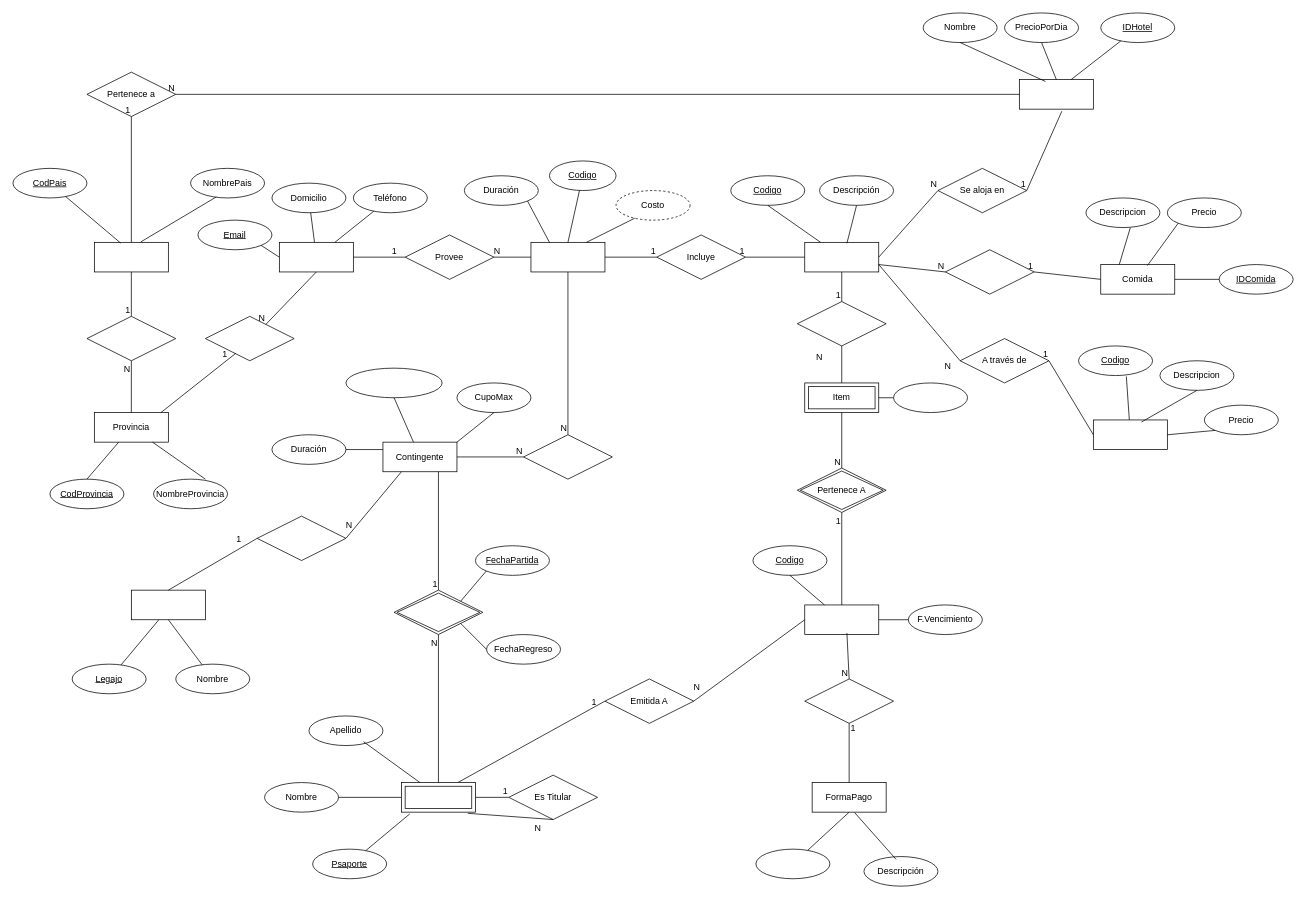
This 1306x905 diagram has some shape labels left out. The shapes that lost their labels are listed below. From the top down, each one's centre as x and y in pixels, then its label:
At pixel 1056 94: "Hotel".
At pixel 131 257: "Pais".
At pixel 316 257: "Operador".
At pixel 567 257: "Paquete".
At pixel 841 257: "Servicio".
At pixel 989 271: "Permite".
At pixel 131 338: "Tiene".
At pixel 249 338: "Hubicado En".
At pixel 841 323: "Establece".
At pixel 393 382: "CodContingente".
At pixel 930 397: "Nro".
At pixel 1130 434: "Transporte".
At pixel 567 456: "Conforman Los".
At pixel 301 538: "Es Guiado Por".
At pixel 168 604: "Guia".
At pixel 438 612: "Es Armado Con".
At pixel 841 619: "Factura".
At pixel 849 700: "Es Abonada".
At pixel 438 797: "Pasajero".
At pixel 792 863: "ID".
